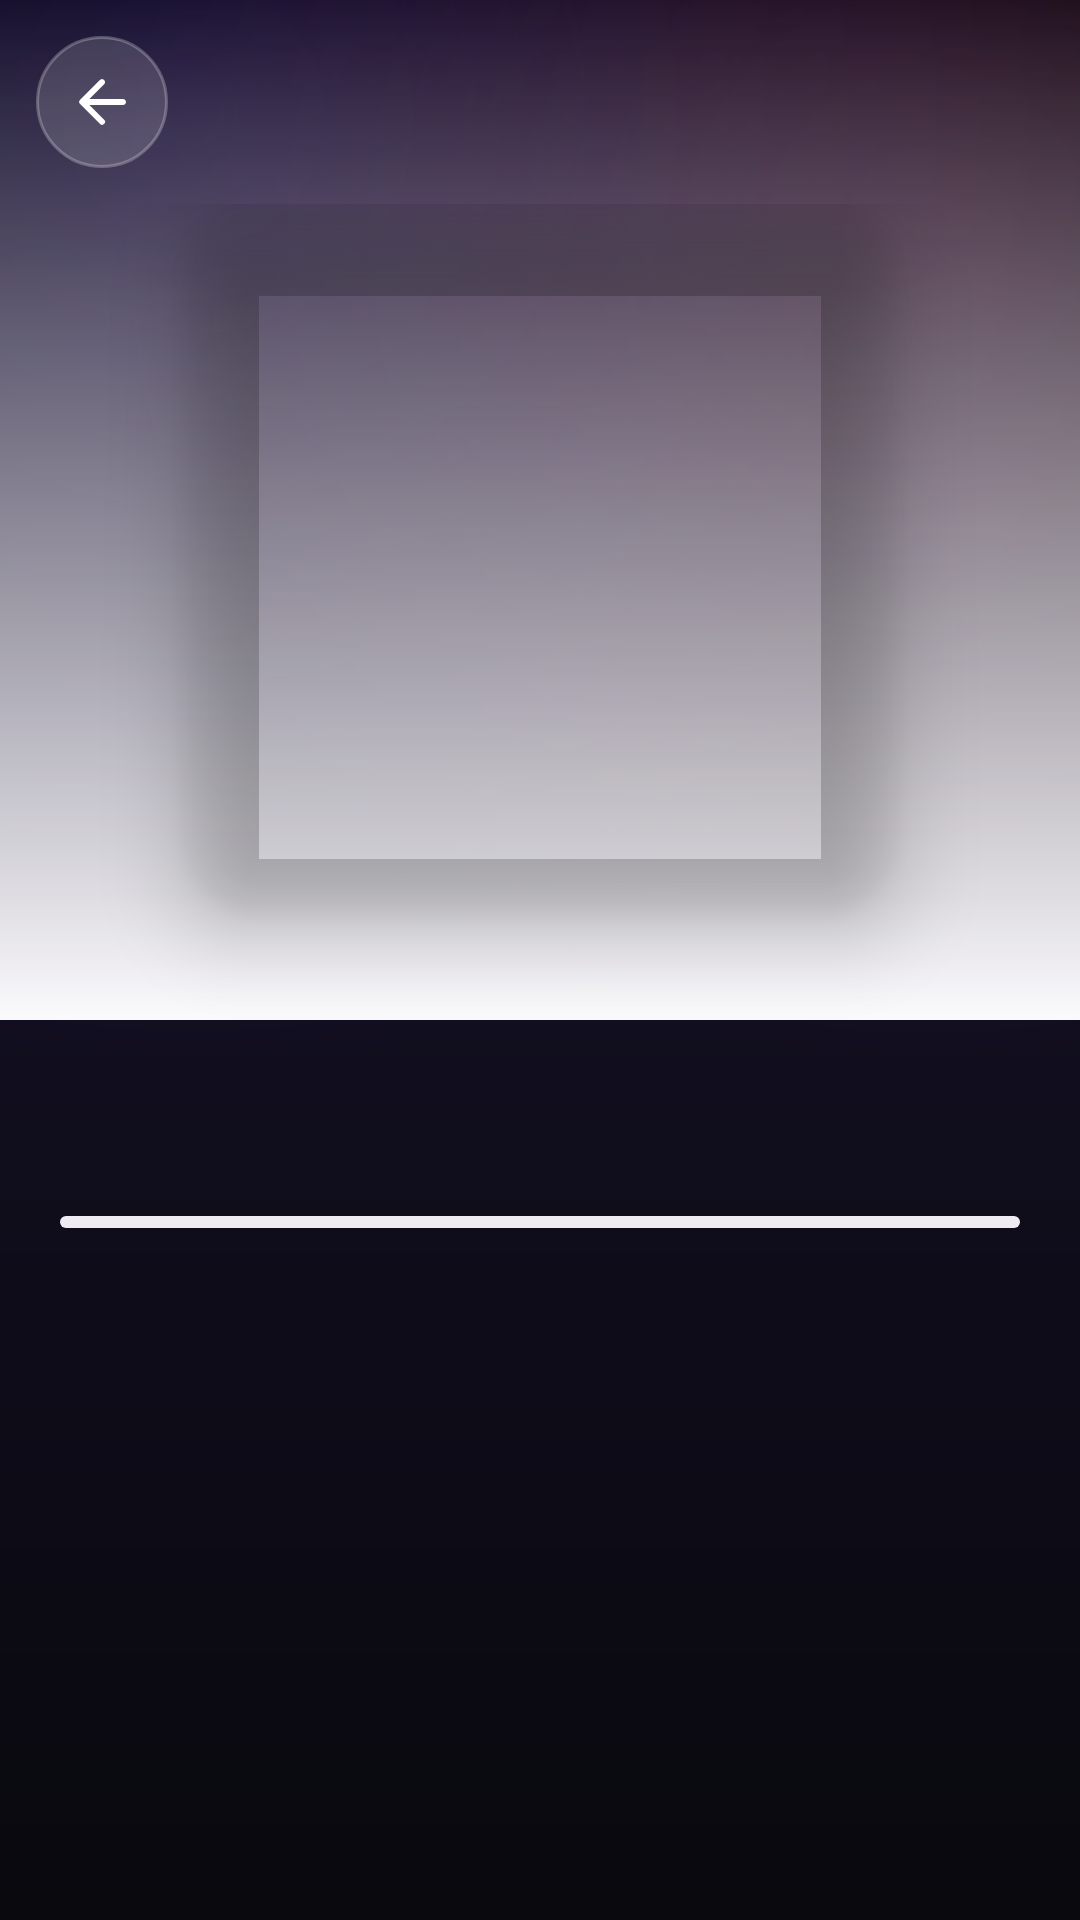

Screen size 1080 x 1920. Icon name, then its box in pixels as (x1, y1, x2, y2):
Назад: (36, 36, 168, 168)
